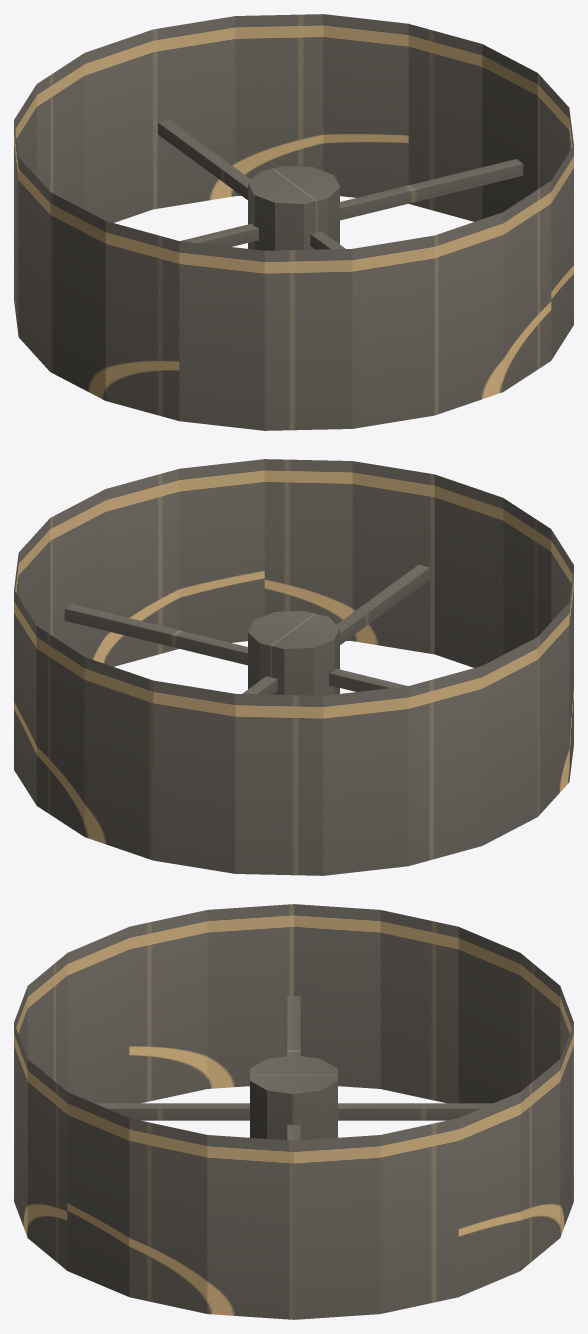
Rendered from cap_banner_ring.obj.
3 renders of one model, top to bottom at view 1: azimuth 30°, elevation 25°; view 2: azimuth 150°, elevation 25°; view 3: azimuth 270°, elevation 25°, orthographic.
Visible parts, largest first — view 1: cap_banner_ring; view 2: cap_banner_ring; view 3: cap_banner_ring.
Boxes of the visible parts, x1,y1,x2,y2 form: cap_banner_ring: [14, 14, 573, 430]; cap_banner_ring: [14, 459, 573, 875]; cap_banner_ring: [14, 904, 573, 1319].
Size of the model in its own units: 3.4 by 1.2 by 3.4.
1 material, 1 textured.
